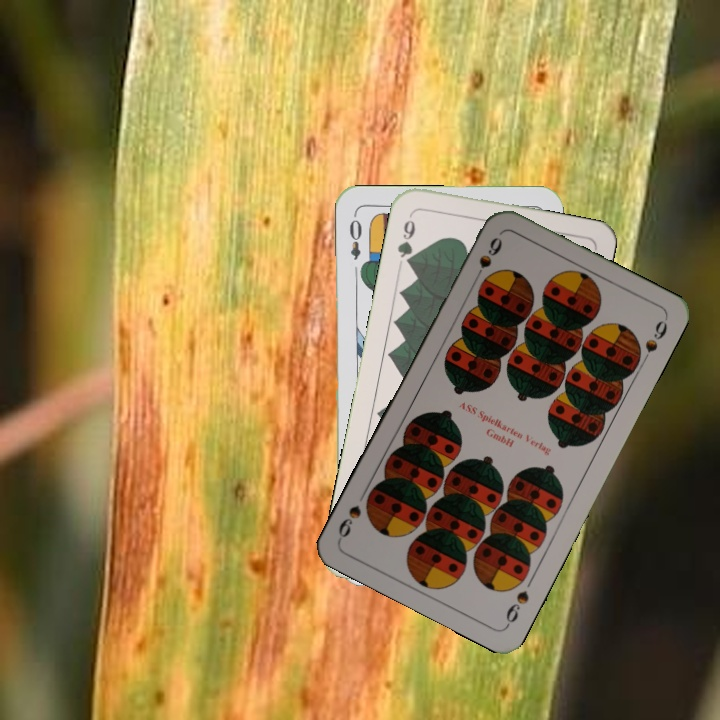EO: (345, 210, 364, 262)
G9: (393, 209, 418, 269)
S9: (469, 233, 505, 286), (502, 586, 532, 629)
